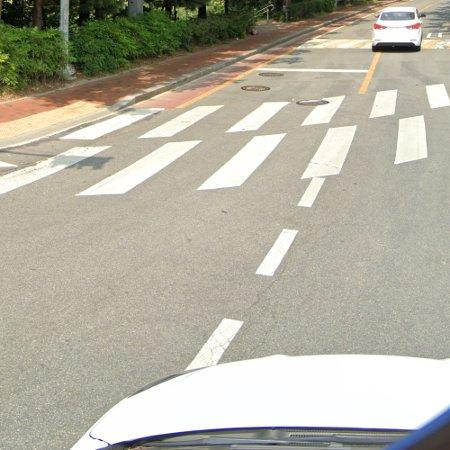crosswalks: (0, 116, 430, 195)
